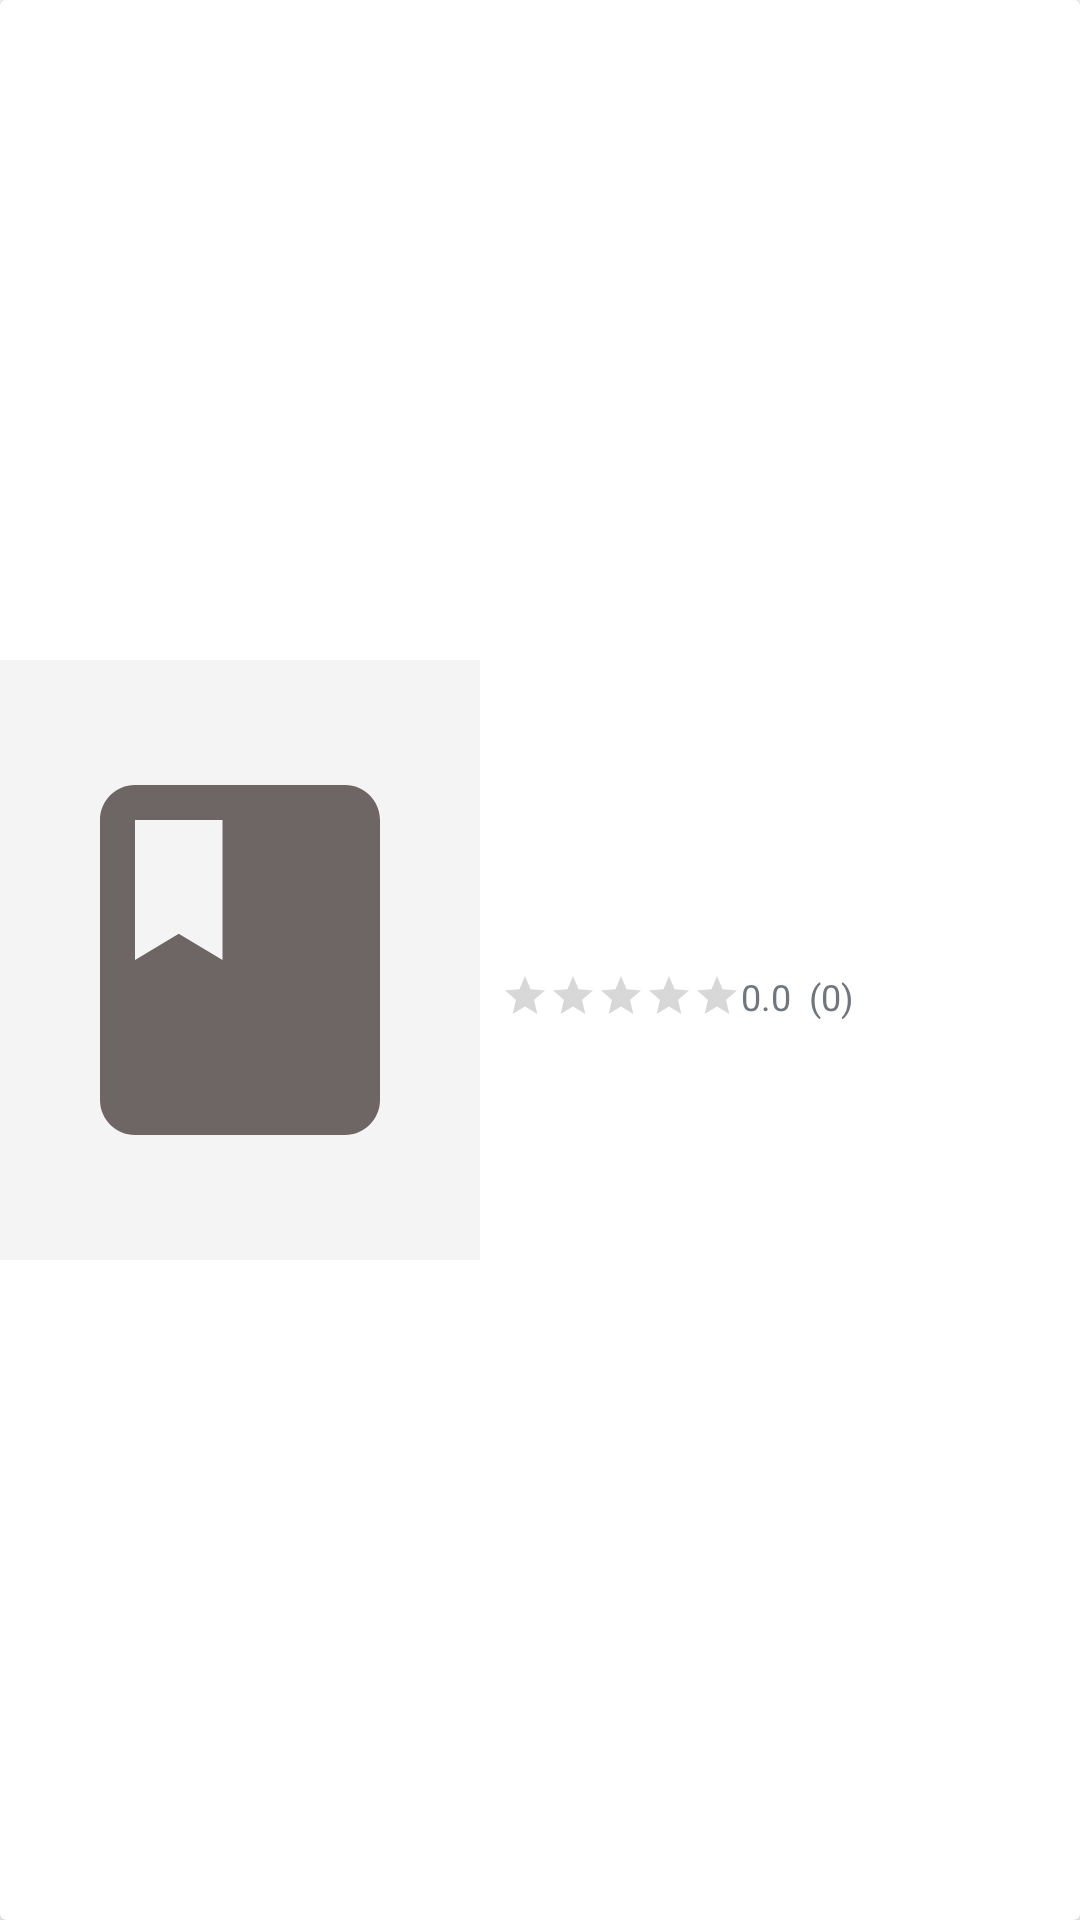

Named icons in this screenshot (1080*1920) and their centers, (x,y):
book: (240,960)
